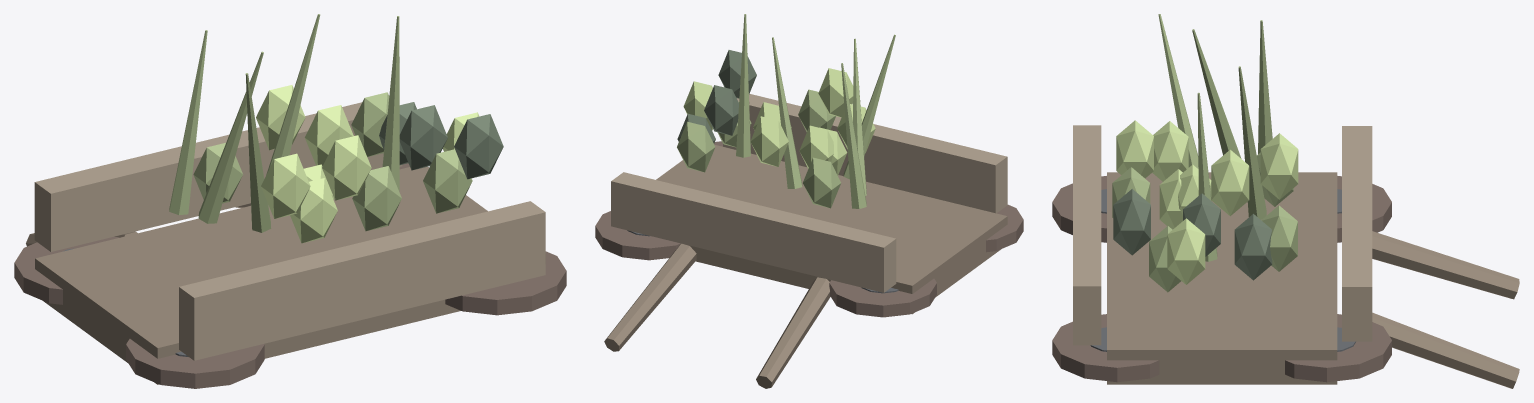
Rendered from hunger_taken_wagon.glb.
3 renders of one model, left to right at view 1: azimuth 30°, elevation 25°; view 2: azimuth 150°, elevation 25°; view 3: azimuth 270°, elevation 25°, orthographic. The views are drawn at different scales.
Parts seen in each view (by area): view 1: hunger_taken_wagon_material_01, hunger_taken_wagon_material_00, hunger_taken_wagon_material_06, hunger_taken_wagon_material_05, hunger_taken_wagon_material_02, hunger_taken_wagon_material_04; view 2: hunger_taken_wagon_material_01, hunger_taken_wagon_material_00, hunger_taken_wagon_material_06, hunger_taken_wagon_material_02, hunger_taken_wagon_material_05, hunger_taken_wagon_material_04; view 3: hunger_taken_wagon_material_00, hunger_taken_wagon_material_01, hunger_taken_wagon_material_05, hunger_taken_wagon_material_06, hunger_taken_wagon_material_02, hunger_taken_wagon_material_04, hunger_taken_wagon_material_03.
Part boxes in pixels (box(x1,y1,x2,y2)): hunger_taken_wagon_material_01: box(34, 102, 545, 360); hunger_taken_wagon_material_00: box(26, 166, 545, 384); hunger_taken_wagon_material_06: box(169, 14, 472, 232); hunger_taken_wagon_material_05: box(256, 85, 479, 243); hunger_taken_wagon_material_02: box(14, 163, 566, 388); hunger_taken_wagon_material_04: box(379, 102, 503, 179); hunger_taken_wagon_material_01: box(611, 93, 1007, 292); hunger_taken_wagon_material_00: box(604, 144, 1007, 388); hunger_taken_wagon_material_06: box(677, 14, 895, 208); hunger_taken_wagon_material_02: box(595, 141, 1023, 317); hunger_taken_wagon_material_05: box(683, 68, 875, 175); hunger_taken_wagon_material_04: box(677, 50, 756, 143); hunger_taken_wagon_material_00: box(1107, 172, 1519, 388); hunger_taken_wagon_material_01: box(1073, 125, 1372, 345); hunger_taken_wagon_material_05: box(1116, 120, 1298, 284); hunger_taken_wagon_material_06: box(1112, 14, 1297, 292); hunger_taken_wagon_material_02: box(1052, 176, 1391, 382); hunger_taken_wagon_material_04: box(1113, 189, 1272, 280); hunger_taken_wagon_material_03: box(1090, 189, 1355, 351).
Size of the model in its own units: 2.88 by 2.05 by 2.94.
